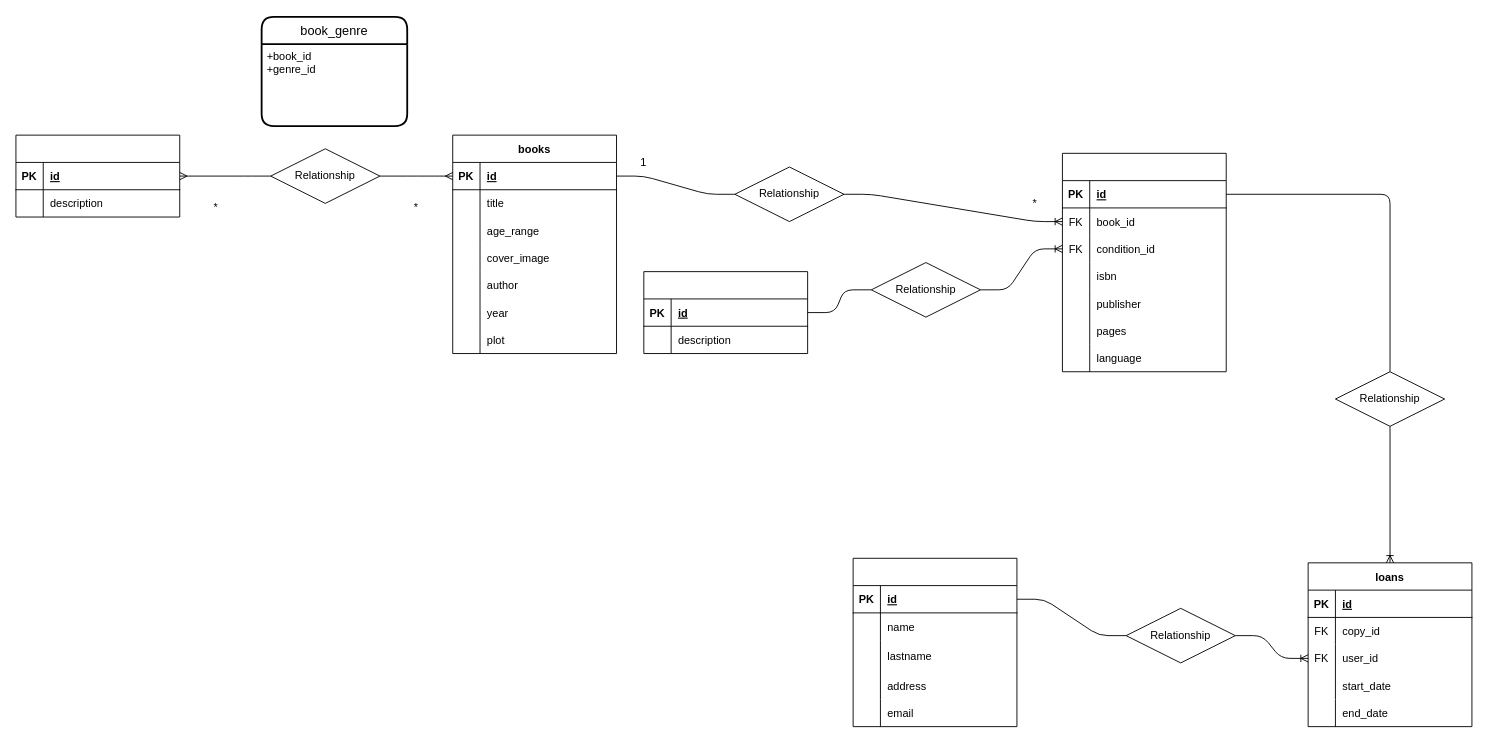
The diagram is 1488 pixels wide and 743 high, and some of its shapes have lost their labels. The box of each missing label's shape, as (x1, y1, x2, y2) in pixels:
conditions: (643, 271, 808, 354)
copies: (1062, 152, 1226, 372)
genres: (15, 134, 180, 217)
users: (852, 557, 1017, 727)
